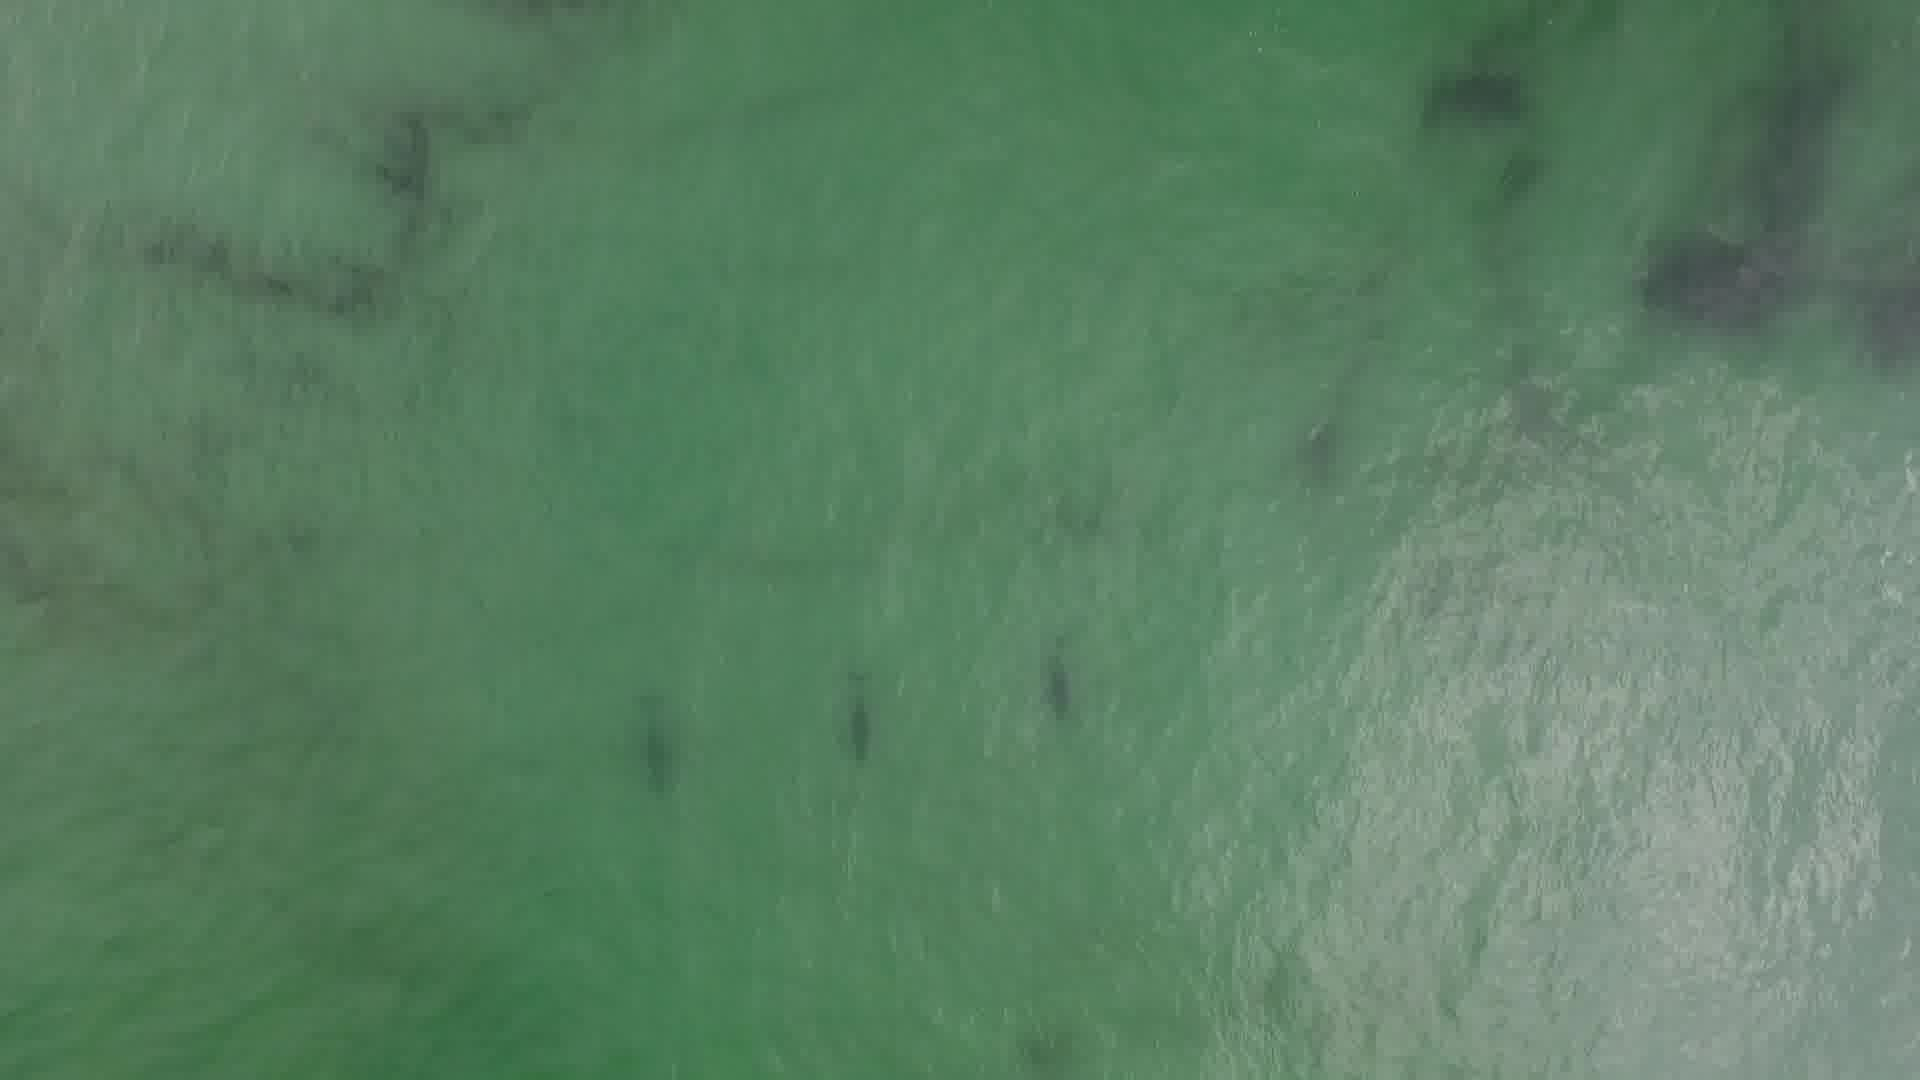dolphin: (825, 661, 893, 765), (1030, 622, 1091, 732), (634, 687, 688, 785)
